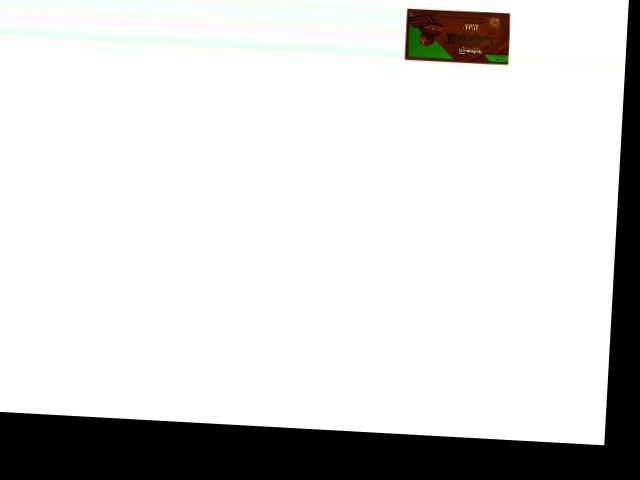chocolate: (402, 3, 515, 67)
